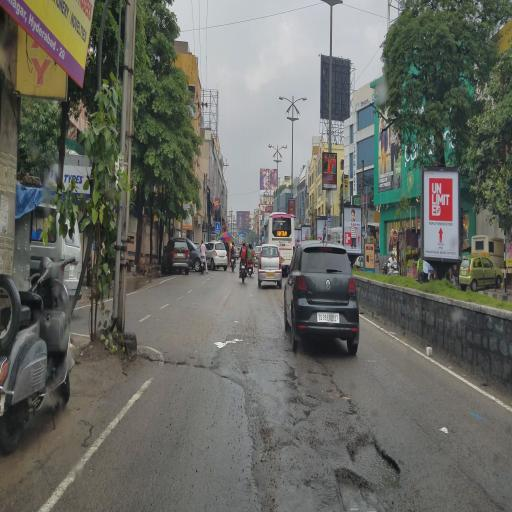street_light_0: (270, 86, 294, 106), (294, 85, 316, 105), (262, 138, 276, 160), (276, 140, 289, 162)
